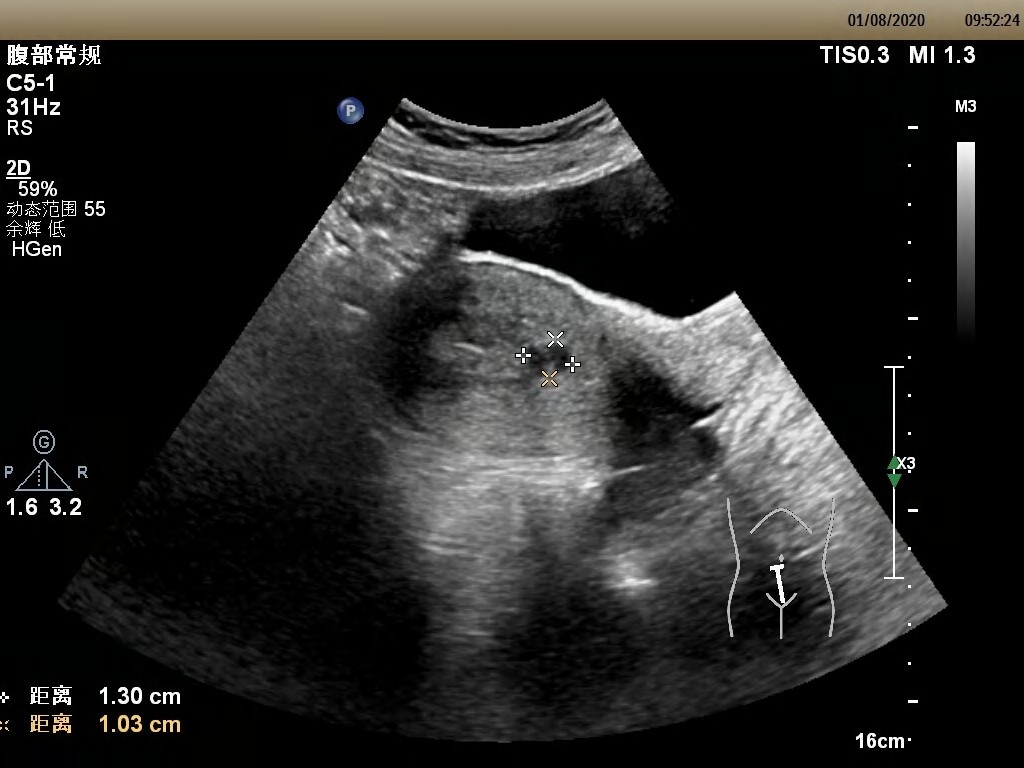肌瘤: (531, 343, 568, 378)
